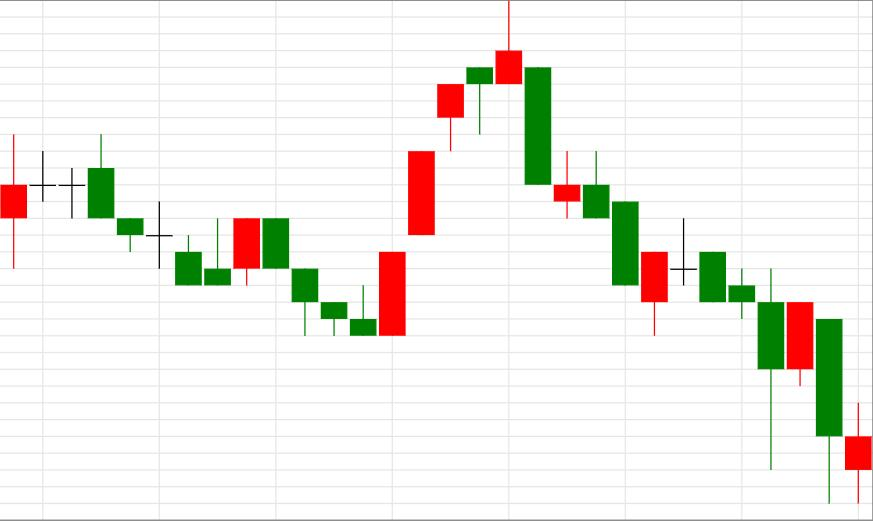shooting_star_fall: (378, 1, 522, 336)
